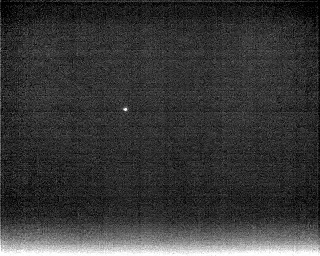AIRPLANE: (122, 105, 130, 114)
